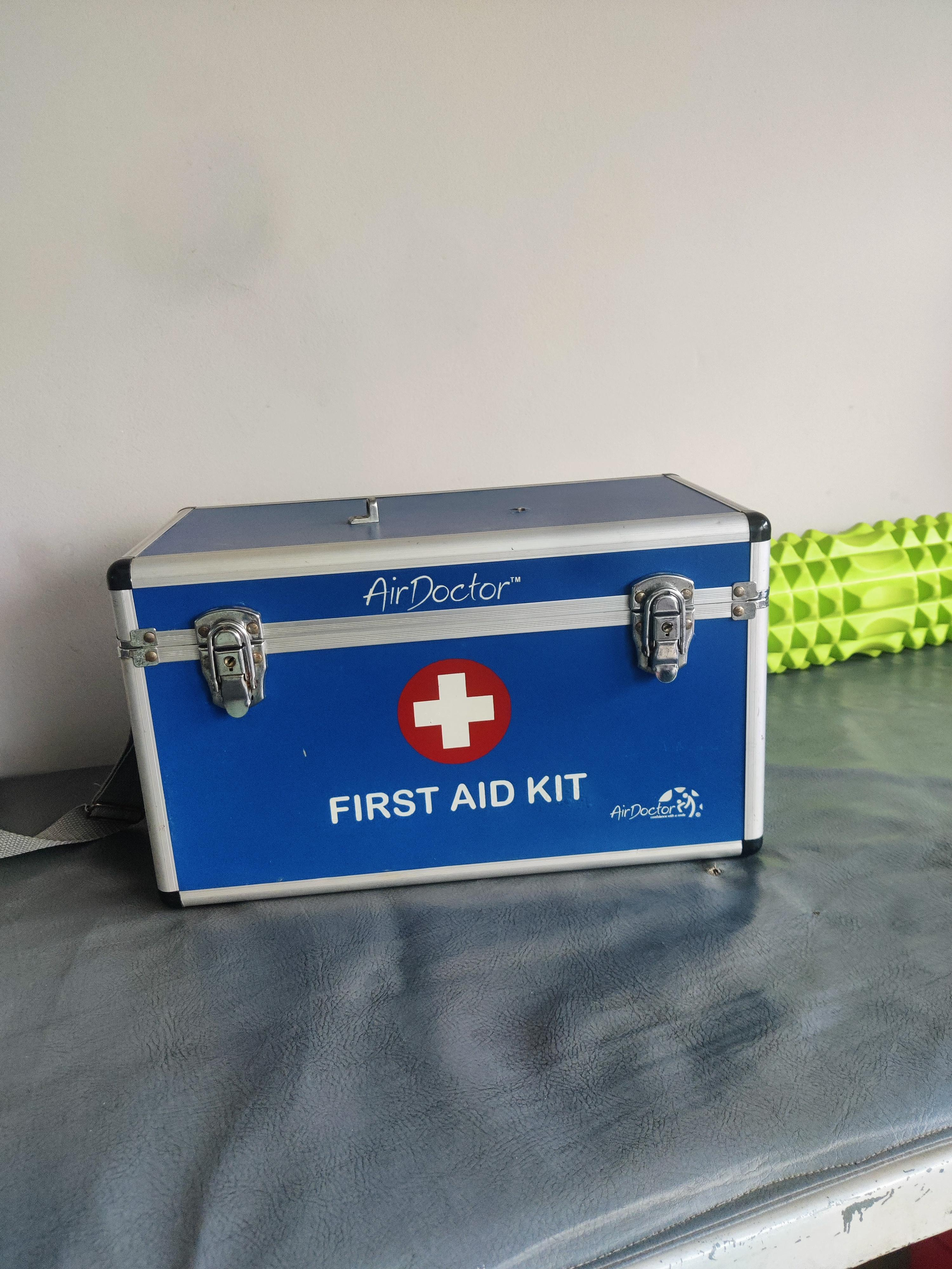FirstAidBox: (92, 458, 801, 913)
